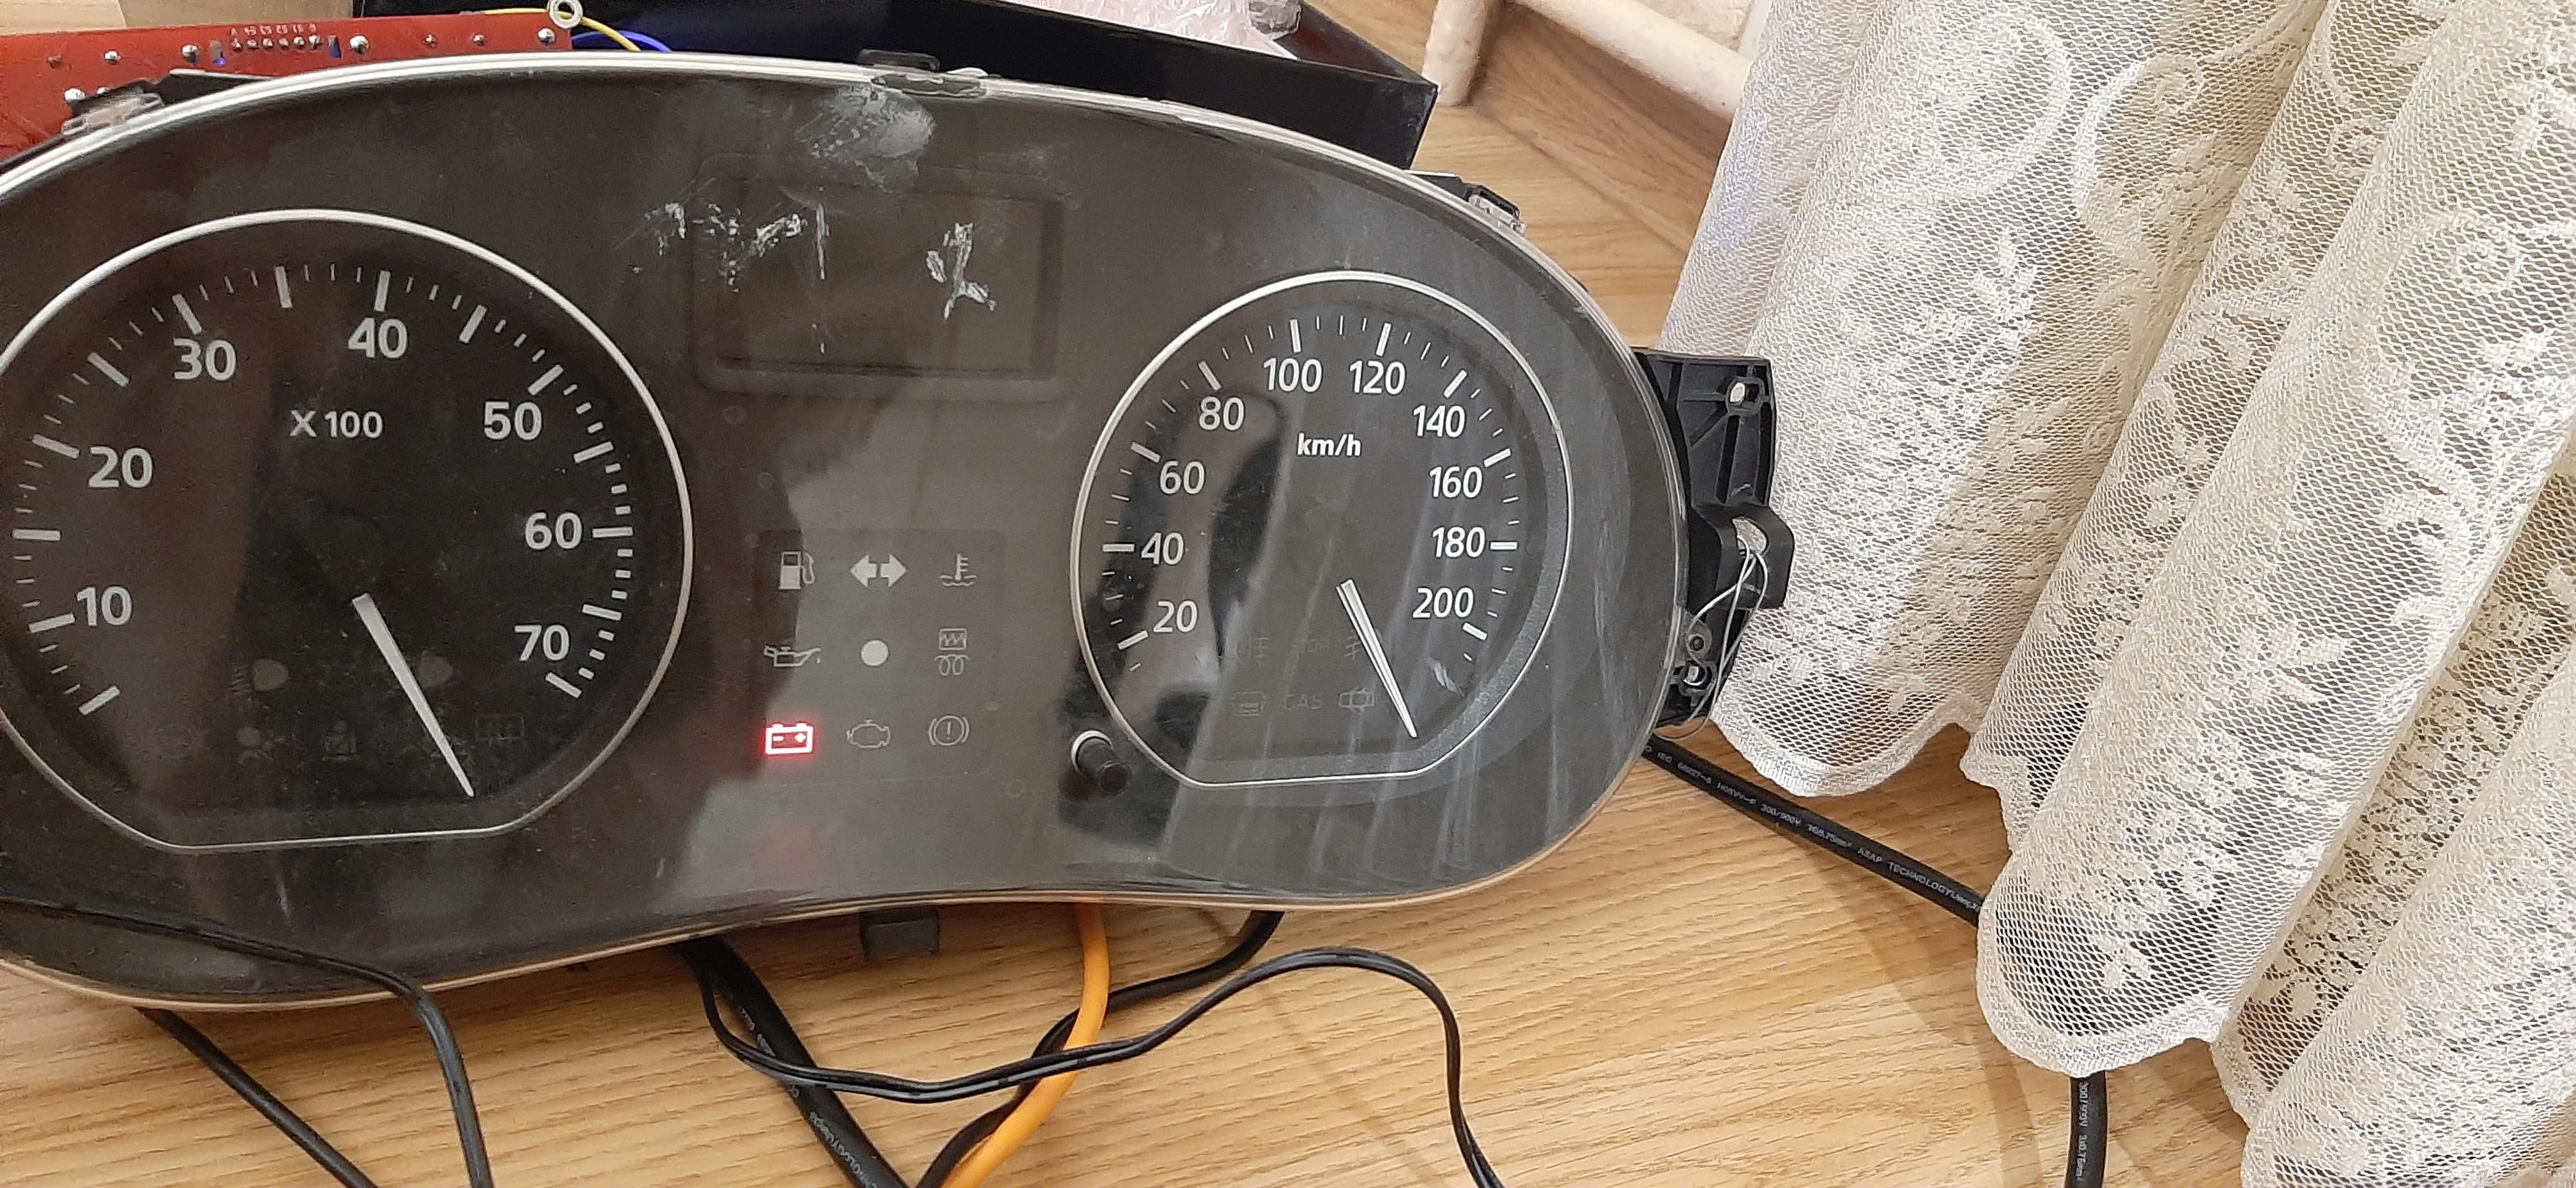accomulator16: (761, 716, 821, 761)
